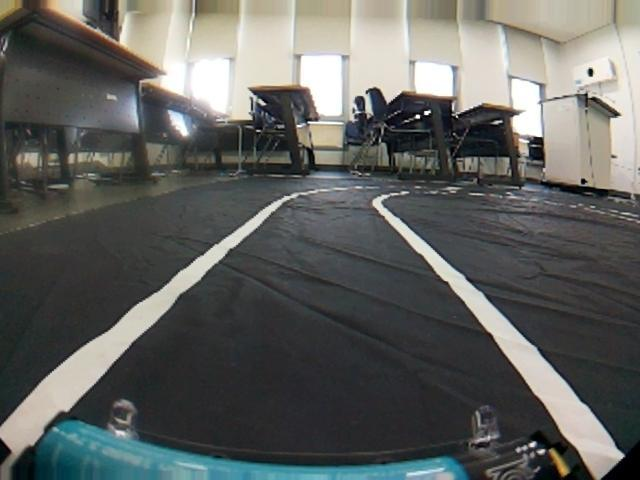straight: (2, 195, 628, 480)
